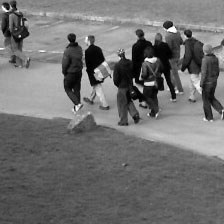person: (112, 48, 141, 127), (83, 33, 112, 111), (199, 42, 224, 122), (60, 32, 83, 114), (180, 29, 205, 104), (131, 28, 153, 110), (163, 20, 185, 97), (139, 46, 162, 118), (152, 32, 175, 101), (9, 1, 30, 68), (1, 1, 16, 64)
